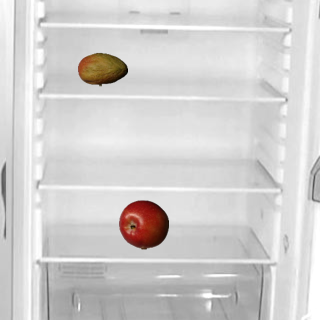Apple Braeburn: (118, 199, 168, 249)
Papaya: (77, 44, 127, 94)
